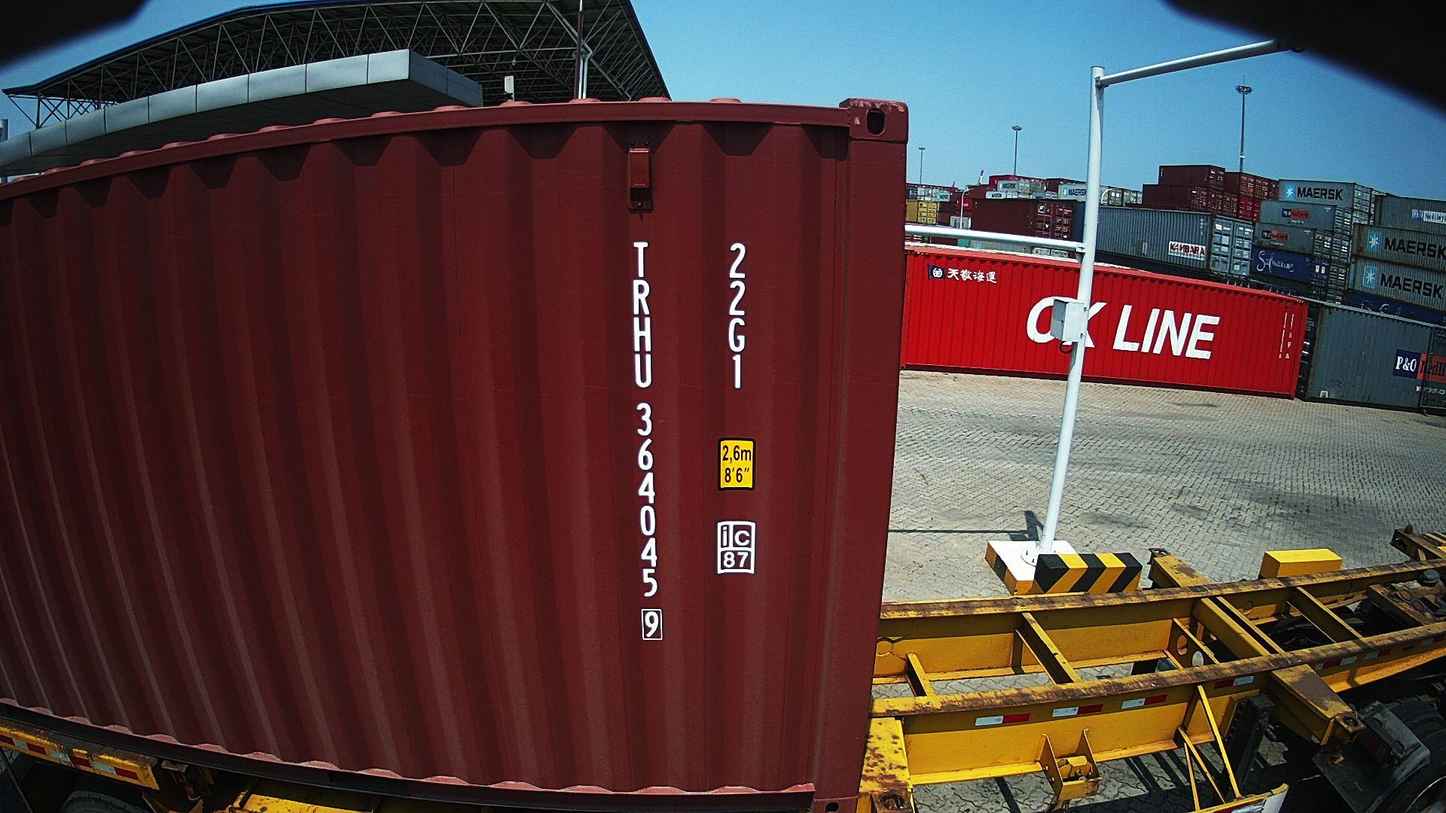container-numbers: (627, 234, 667, 644), (721, 239, 753, 393)
